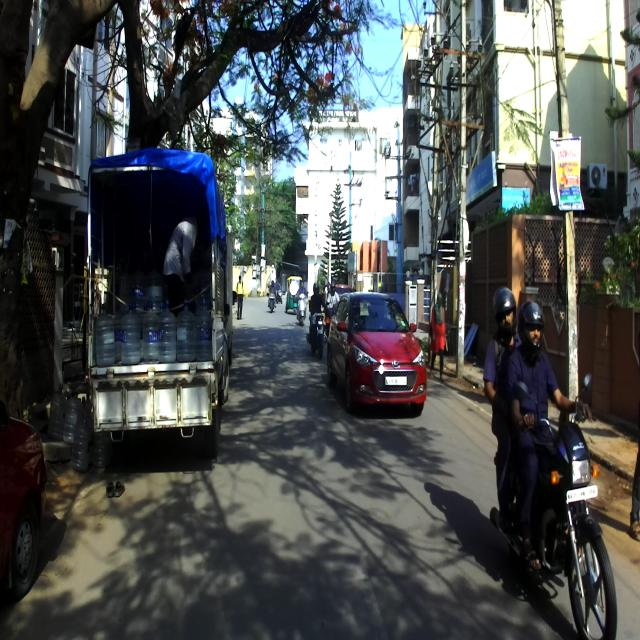car ahead at: (328, 287, 431, 415)
electric pole ahead at: (549, 0, 591, 361), (452, 0, 478, 382)
motorcycle ahead at: (531, 390, 617, 640)
truck ahead at: (83, 149, 234, 461)
